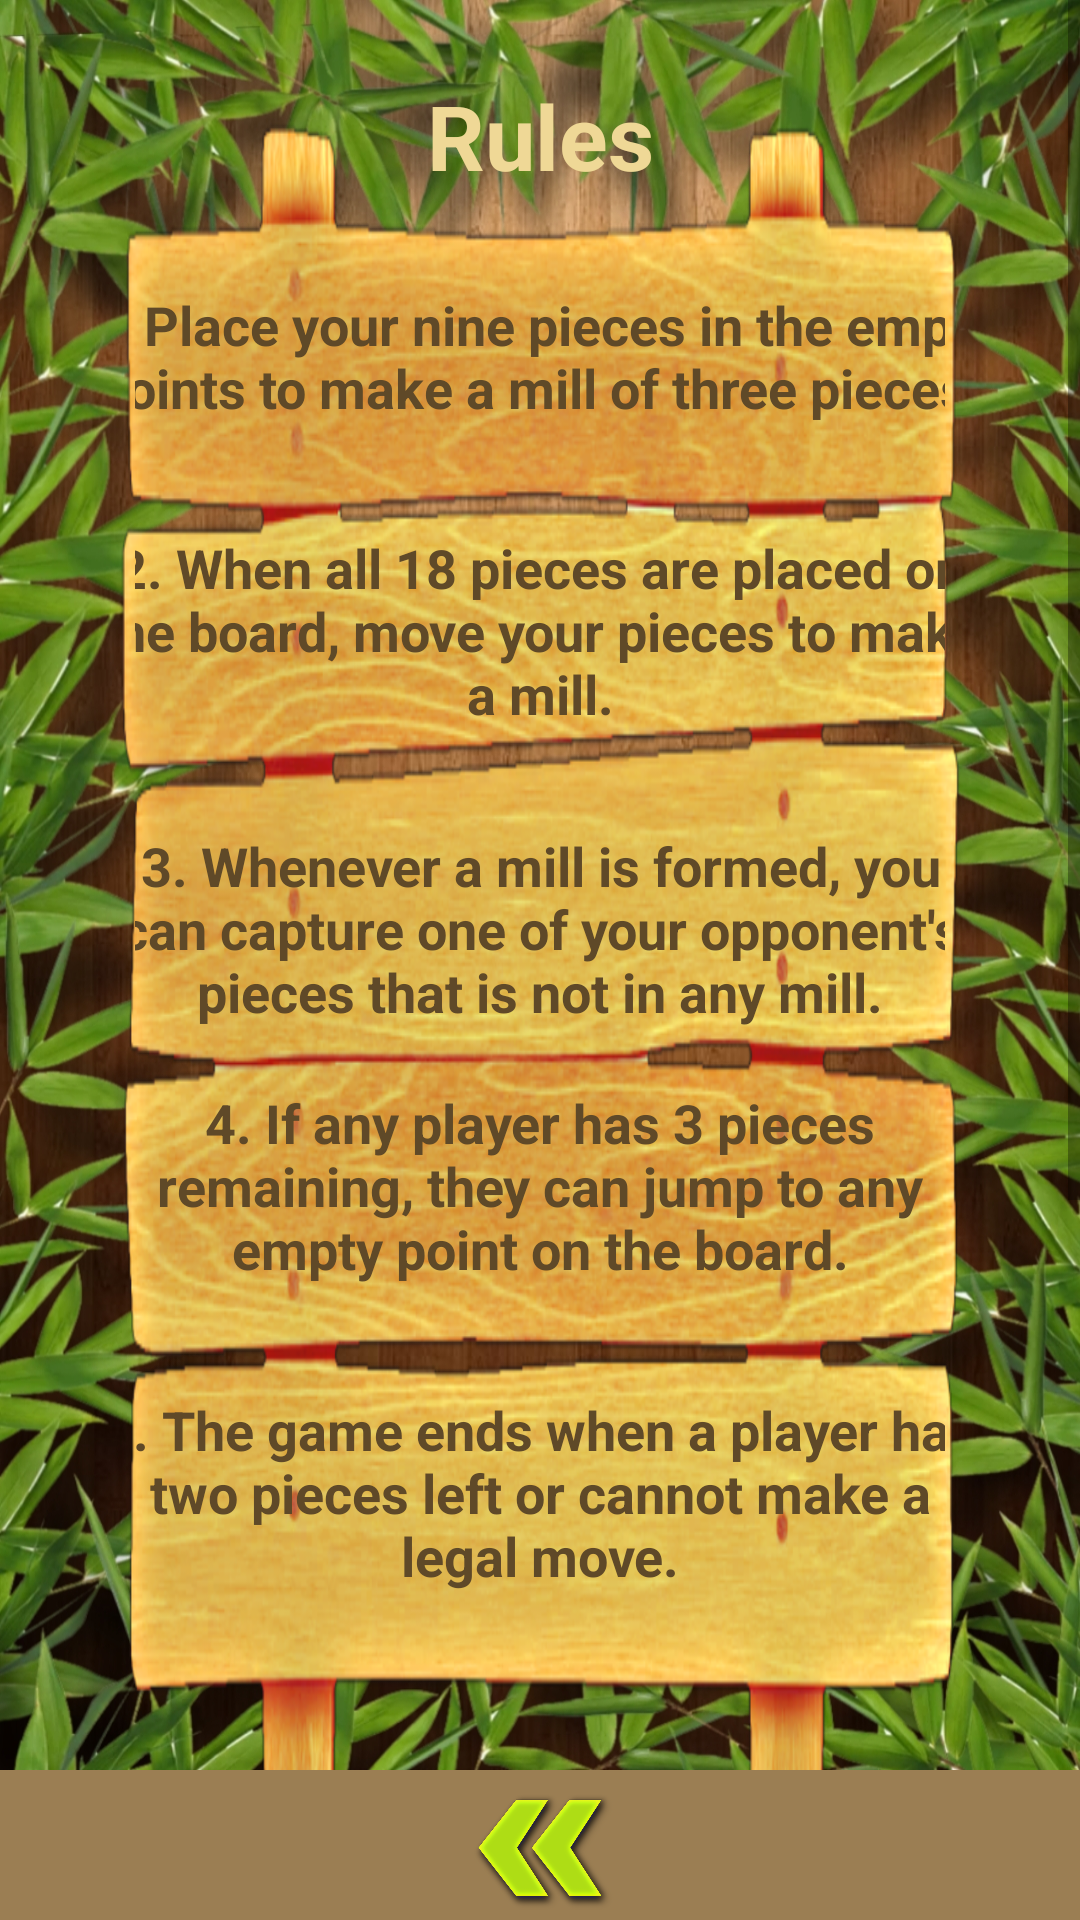

Where to tap for icons on this 1080px x 1920px app screen, as (x=x, y=y):
Go back: (x=541, y=1851)
